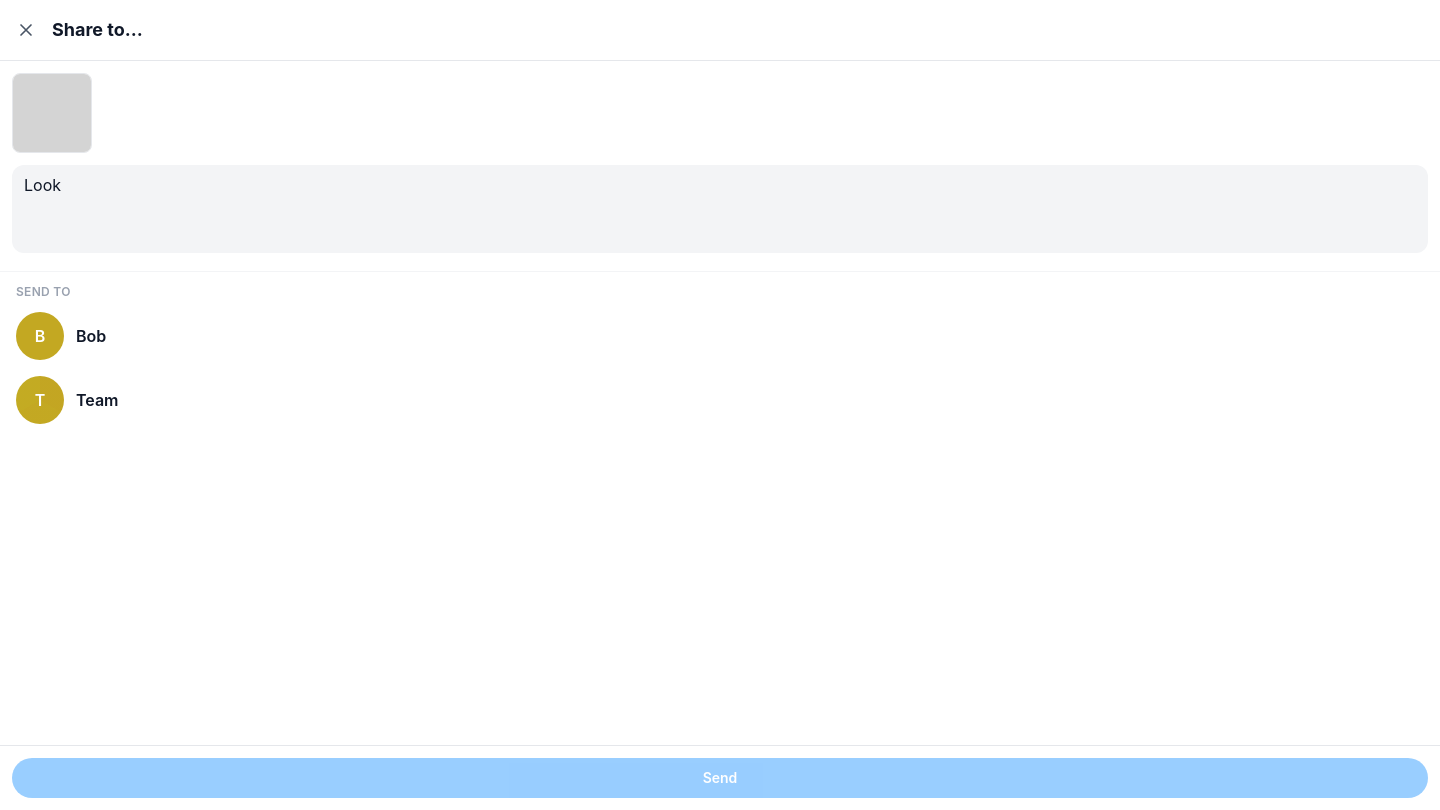
Test: SharePage › keeps the payload and surfaces an error when the upload fails, allowing retry
Click the text "Bob" at (91, 336), box top-left (76, 326), bottom-right (106, 346)
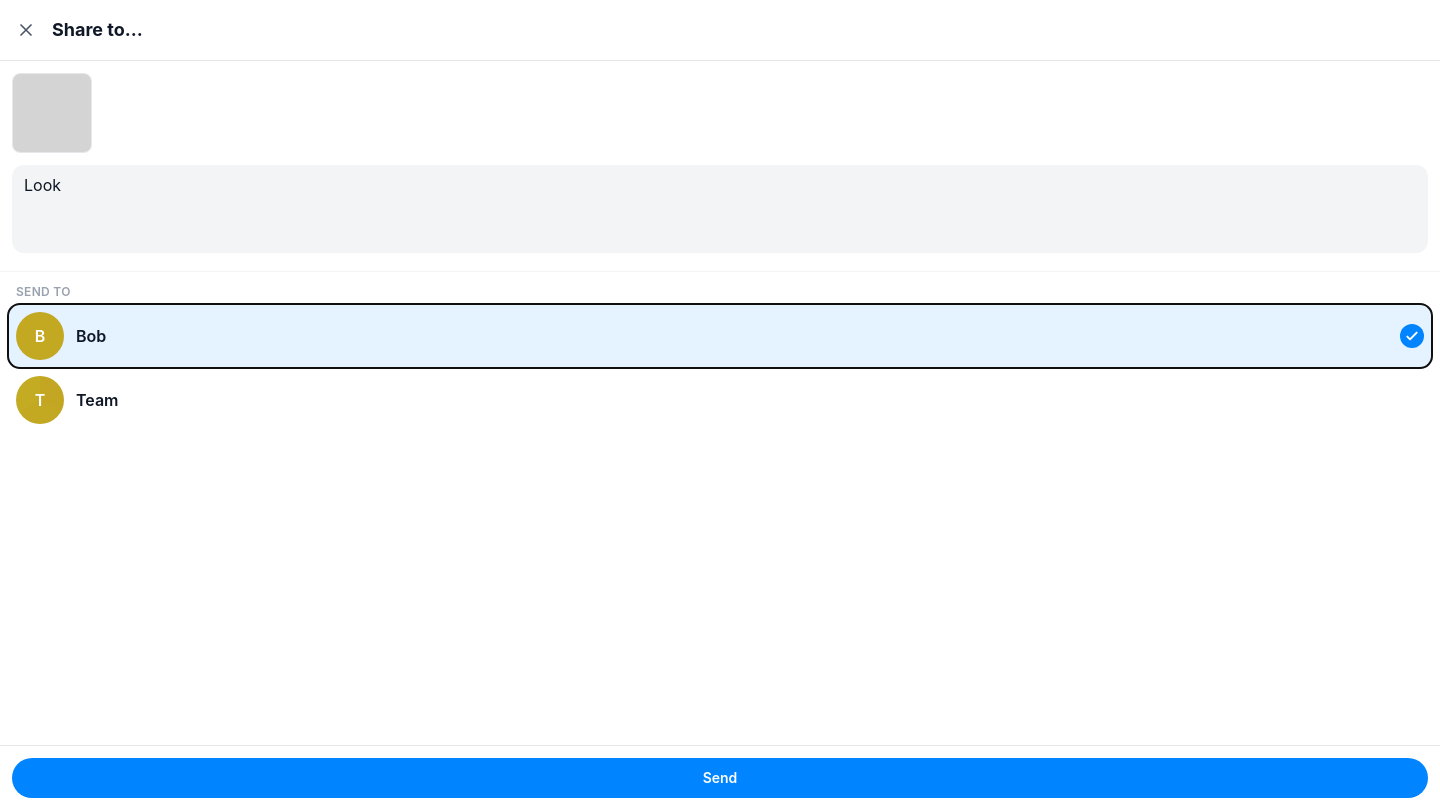
Click the button "Send" at (720, 778), box top-left (12, 758), bottom-right (1428, 798)
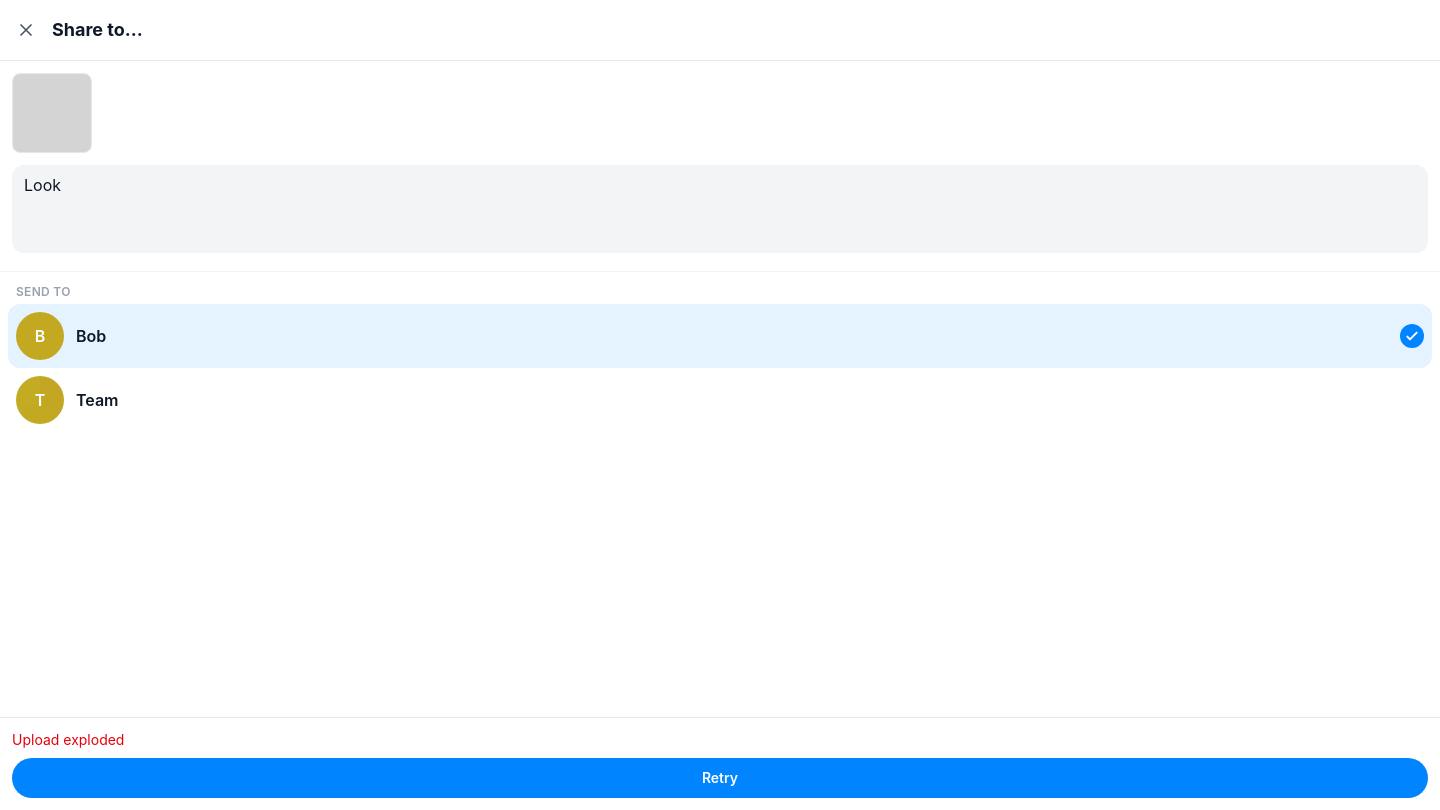
Result: the button "Retry" is enabled at top-left (12, 758), bottom-right (1428, 798)
Result: the message reads "Upload exploded" at top-left (12, 731), bottom-right (124, 748)
